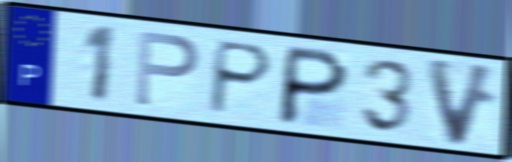1: (77, 22, 118, 103)
3: (360, 58, 416, 134)
P: (273, 43, 353, 128), (204, 37, 276, 117), (132, 28, 202, 110)
V: (423, 54, 501, 149)
